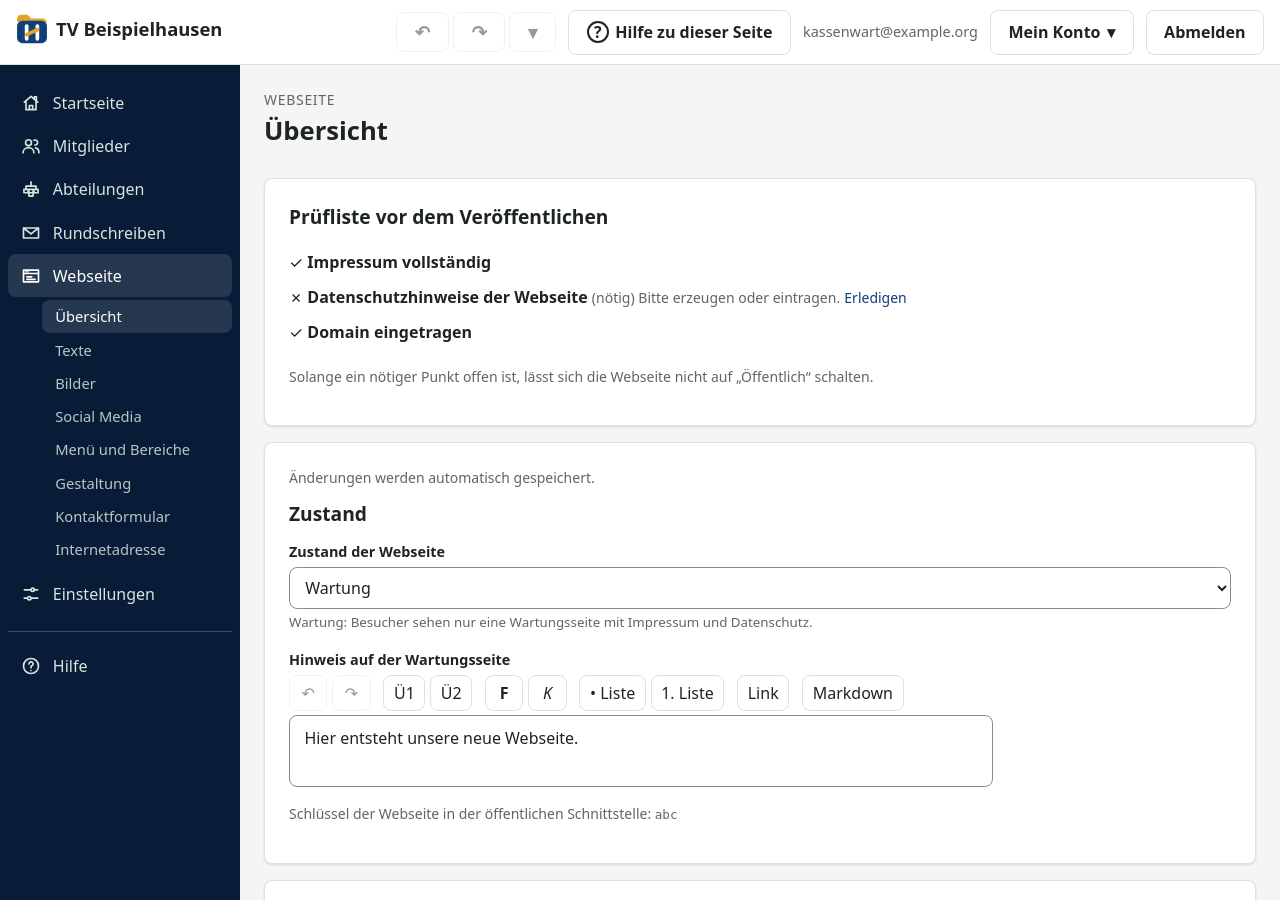
Test: Webseite › speichert den Zustand automatisch
Select "Öffentlich" in the dropdown labelled "Zustand der Webseite" at (760, 588), box [289,567,1231,609]
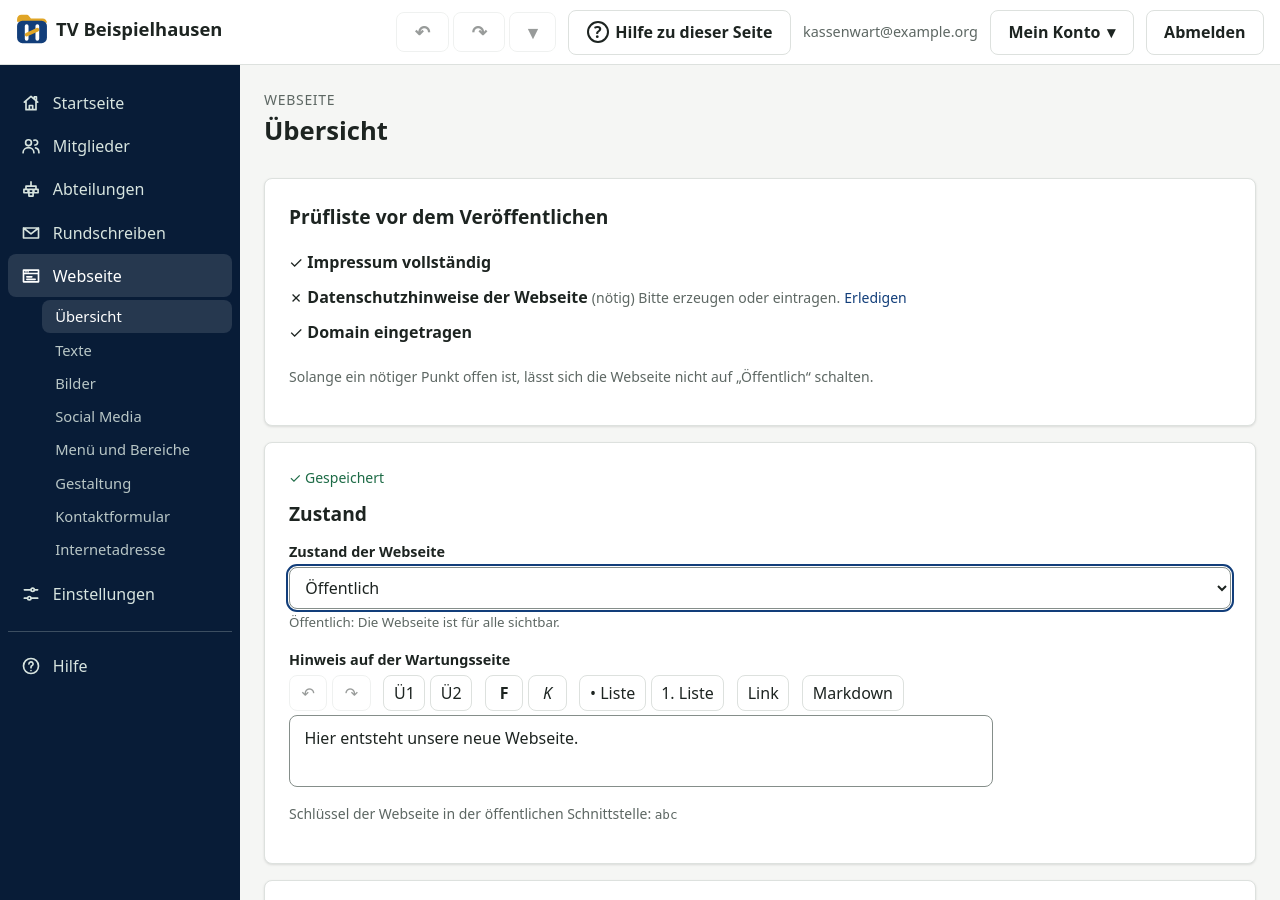
# Zurückgehaltene Nachrichten unter „Kontaktformular“
Click the link "Kontaktformular" at (113, 516), box [55,506,170,526]
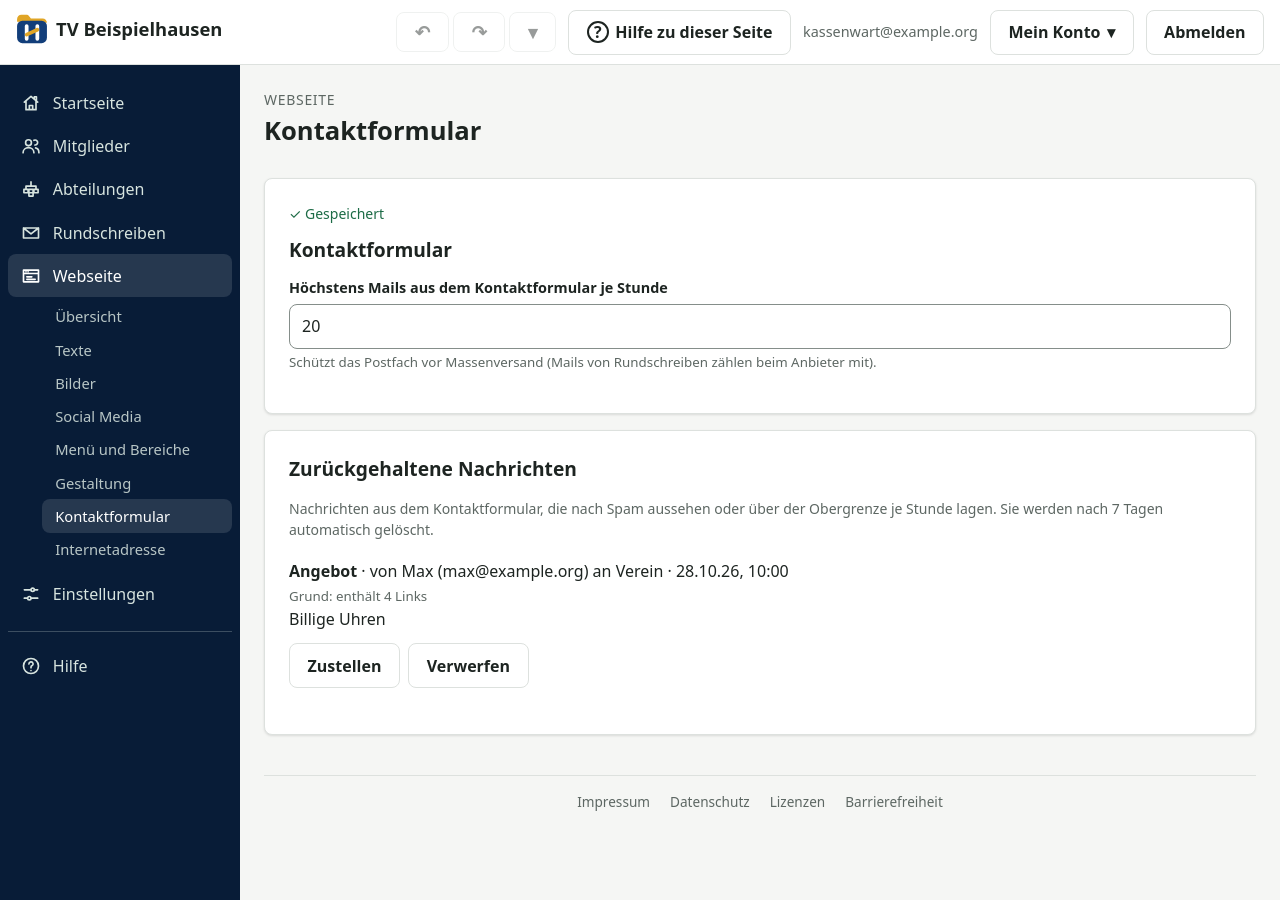
Now the text "Grund: enthält 4 Links" is shown, box [289,587,427,605]
